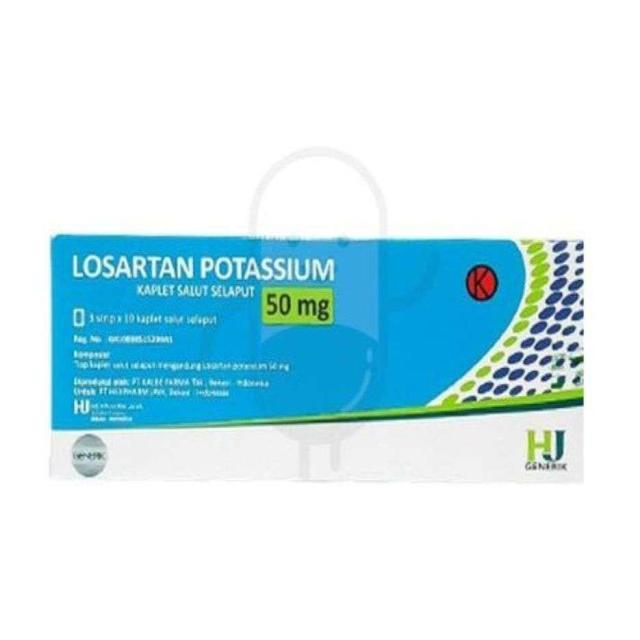drug-name: (67, 250, 337, 286)
